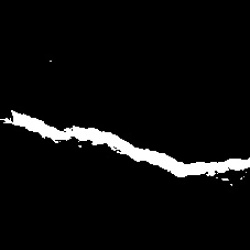crack: (2, 109, 246, 185)
pinhole: (48, 58, 54, 66)
